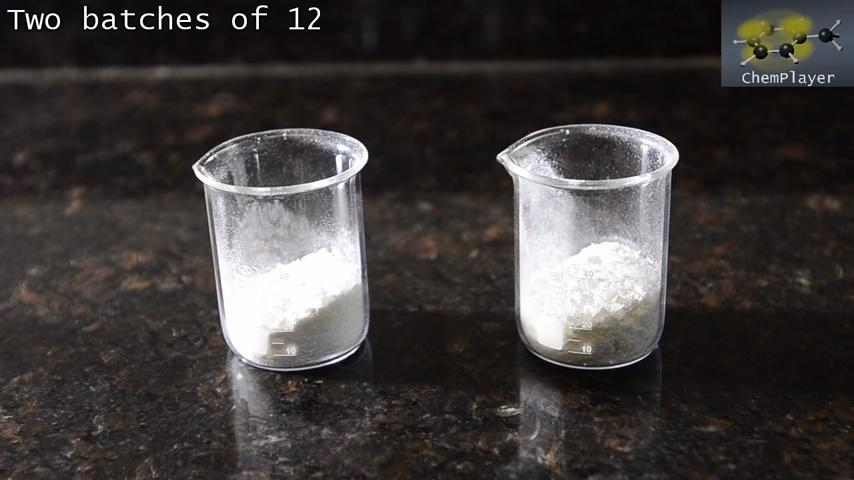Beaker: (489, 95, 688, 394), (193, 100, 383, 399)
